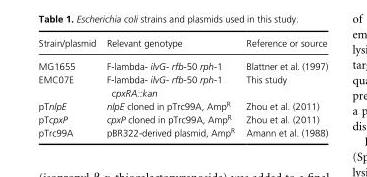table: (37, 37, 327, 137)
table column: (100, 37, 239, 137), (239, 37, 327, 137), (37, 37, 100, 137)
table column header: (37, 37, 327, 54)
table row: (37, 72, 327, 98), (37, 54, 327, 72), (37, 37, 327, 54), (37, 111, 327, 125), (37, 98, 327, 111), (37, 125, 327, 137)
